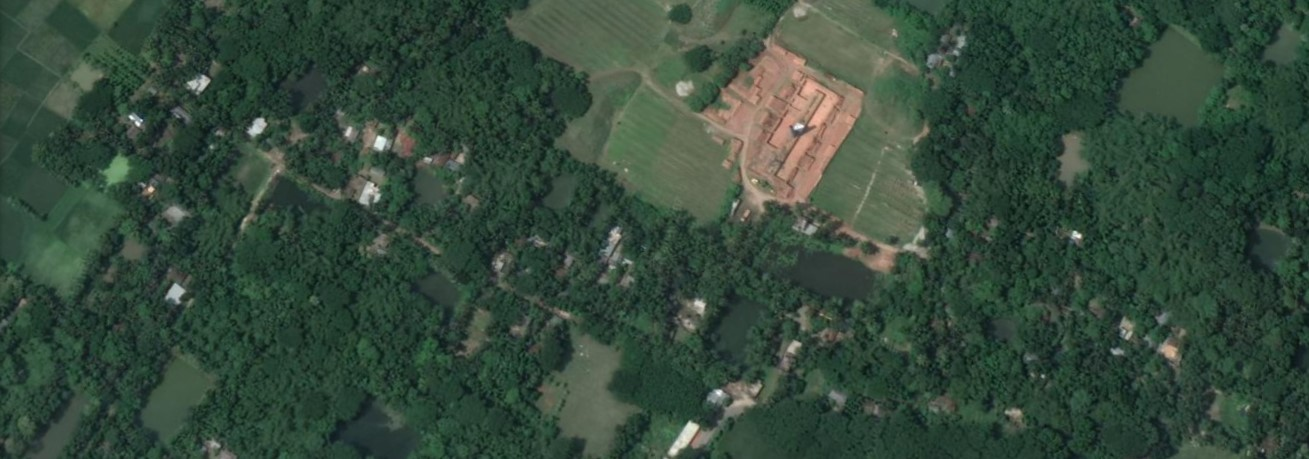kiln: (746, 84, 849, 189)
